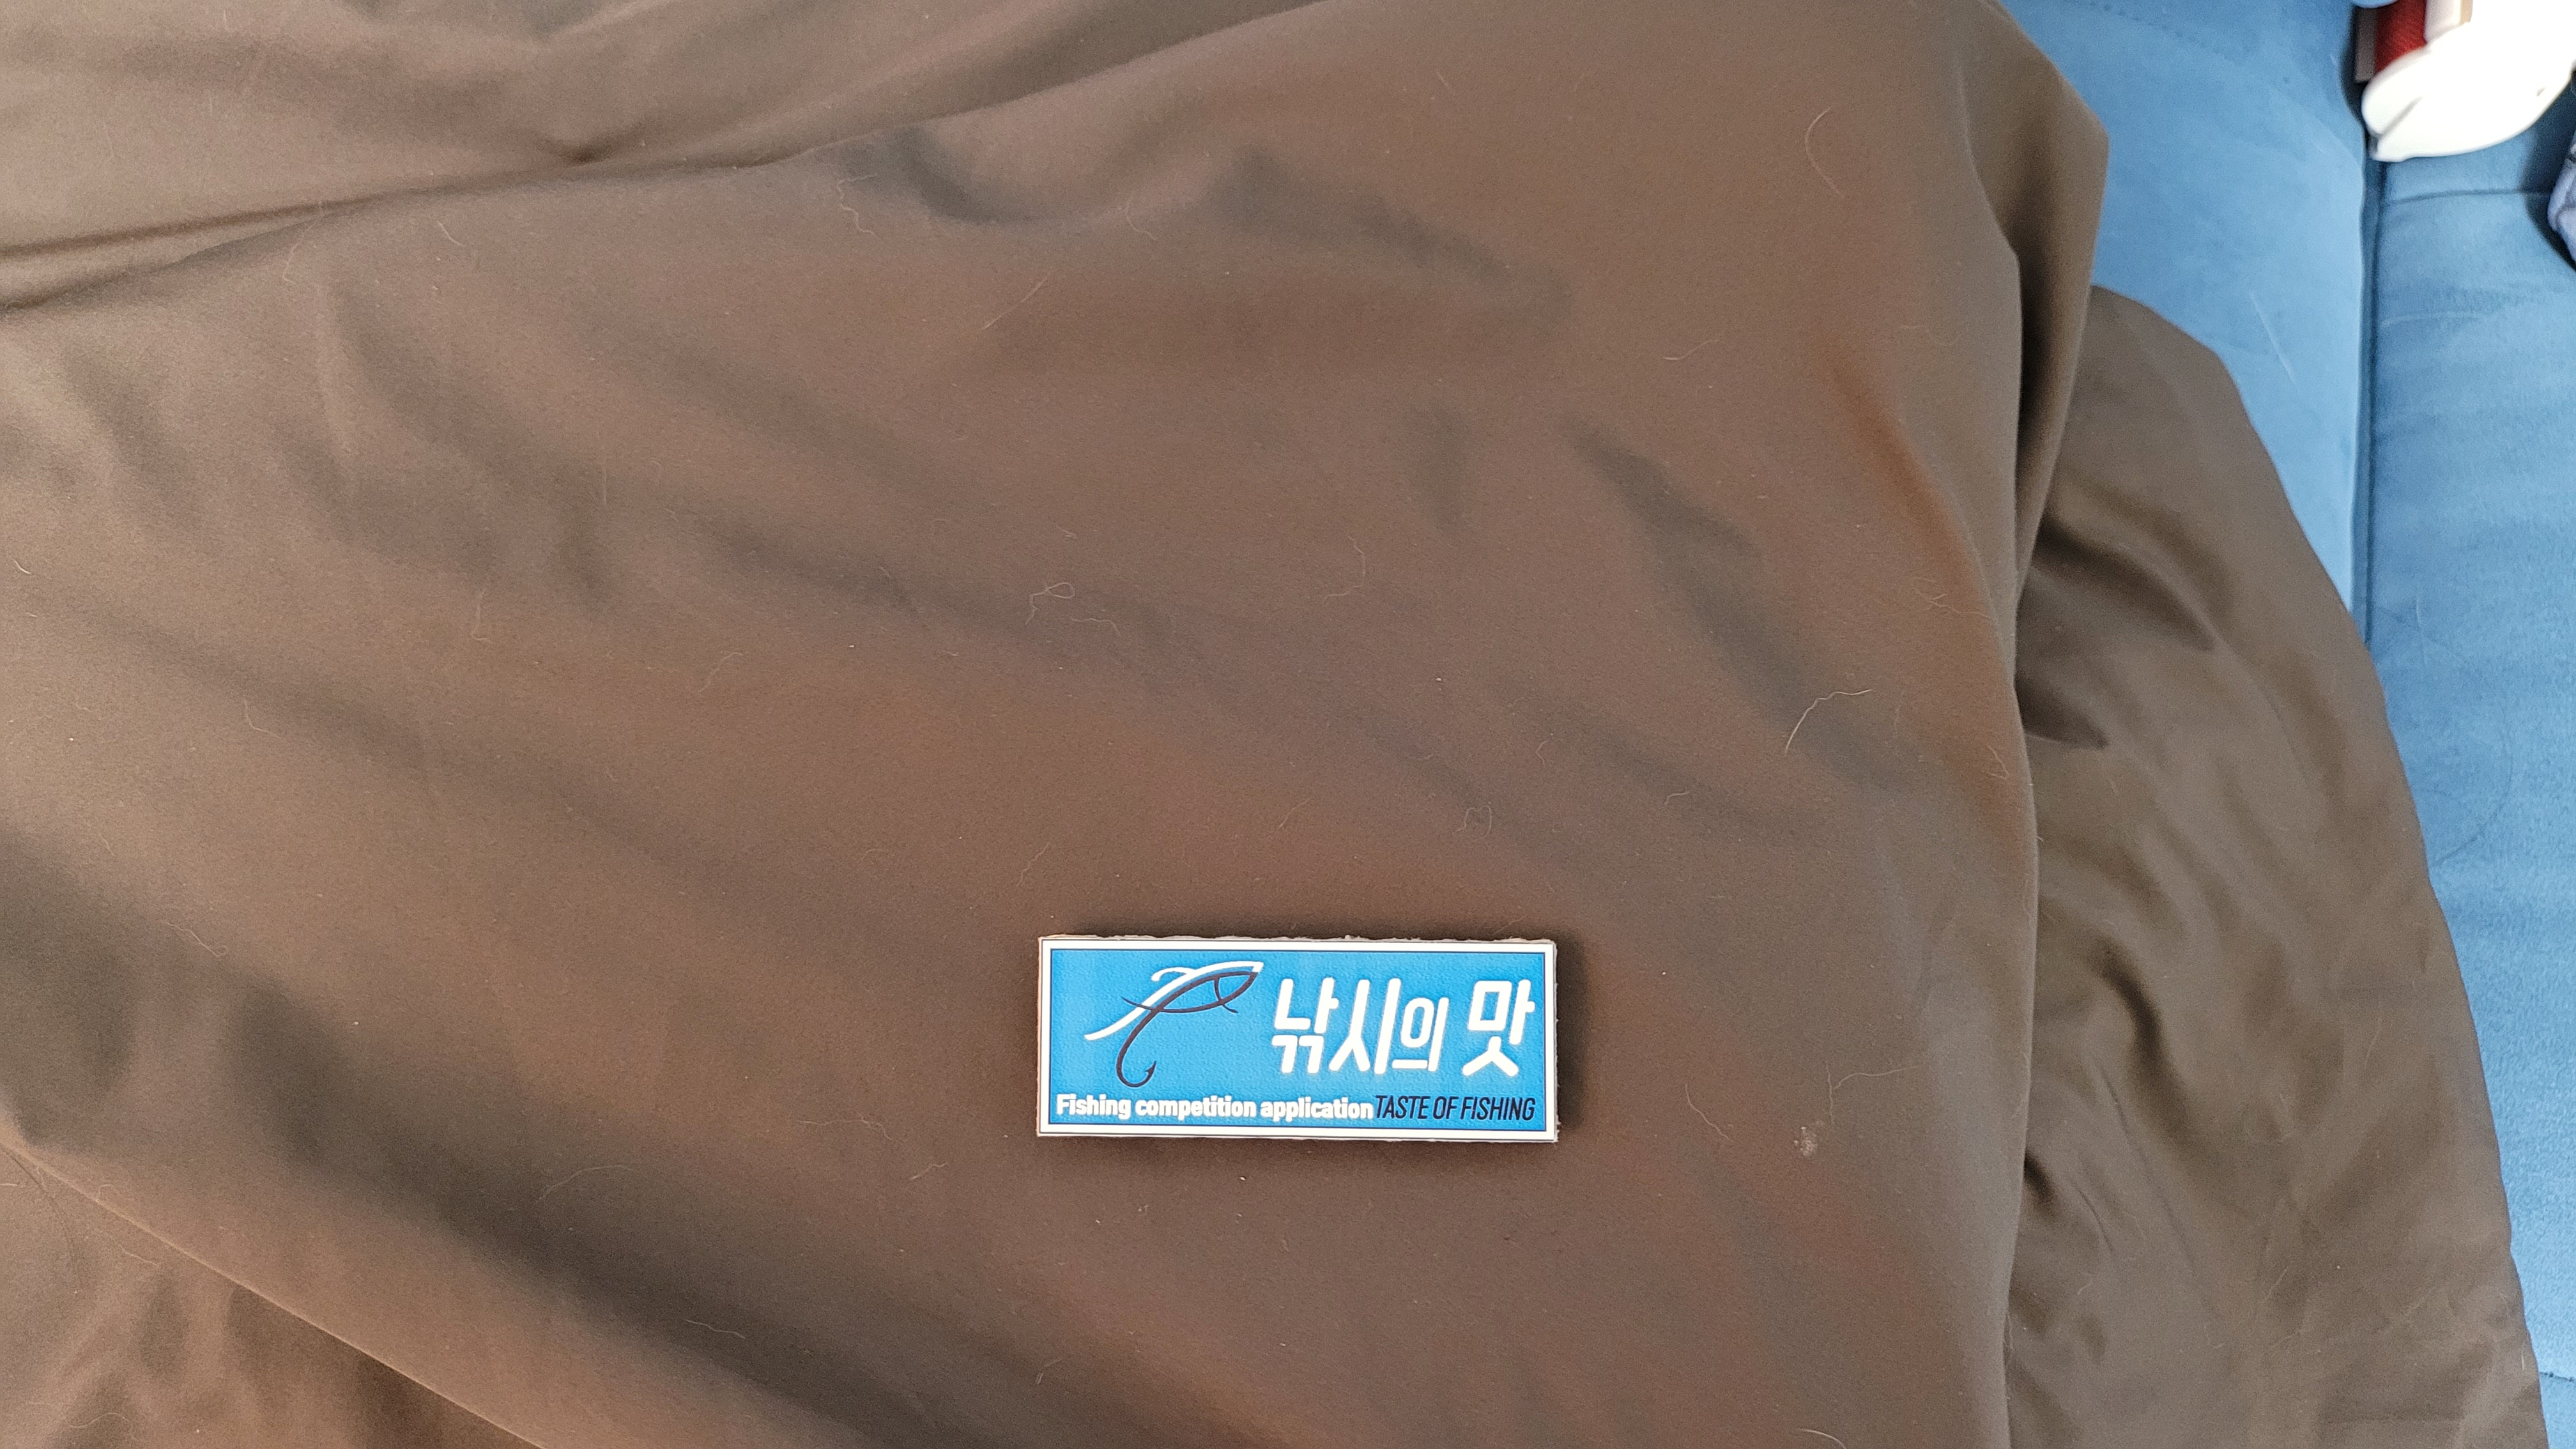tag: (1039, 934, 1564, 1143)
